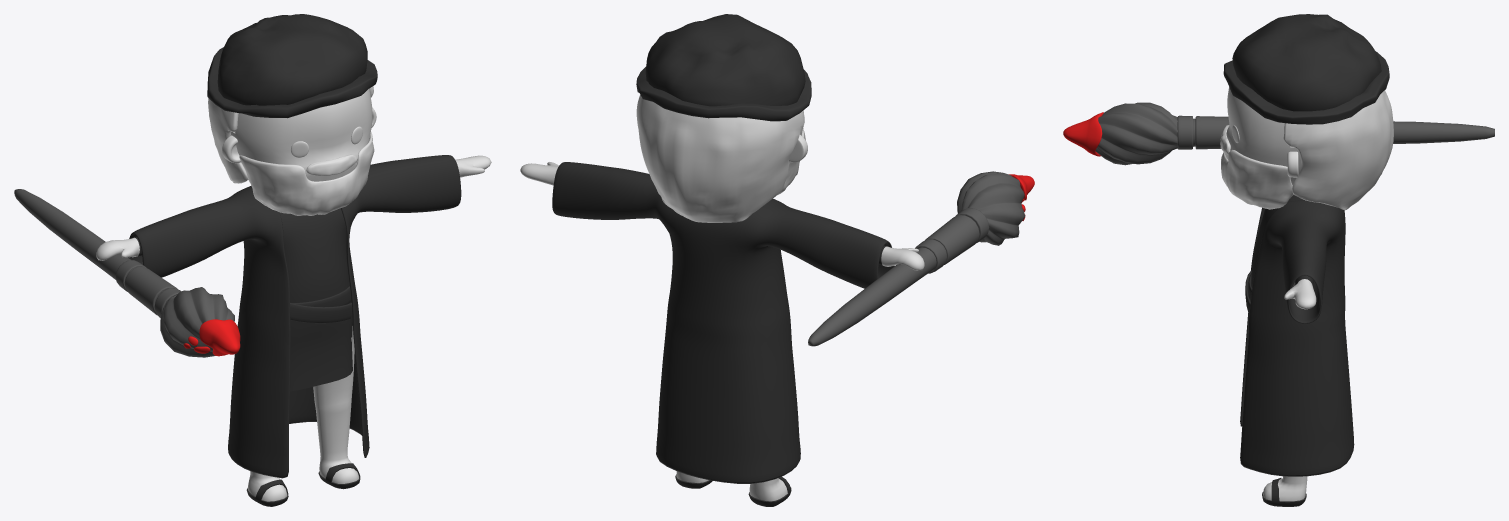
Rendered from DaVinci_SmallB_Test_02.fbx.
3 renders of one model, left to right at view 1: azimuth 30°, elevation 25°; view 2: azimuth 150°, elevation 25°; view 3: azimuth 270°, elevation 25°, orthographic. The views are drawn at different scales.
Visible parts, largest first — view 1: Robe, Top, Shirt, Head, Beard, Legs, Bristles, Rim, Handle, Ferrule, PaintBullet, Hair (+4 smaller); view 2: Robe, Hair, Top, Bristles, Handle, Rim, Ferrule, Legs, Hand_R, Hand_L; view 3: Robe, Top, Hair, Bristles, Rim, Head, Beard, Handle, Ferrule, PaintBullet, Legs, Hand_L (+1 smaller).
Part boxes in pixels (<box>): Robe: <box>128,155,461,478</box>; Top: <box>217,14,367,105</box>; Shirt: <box>135,208,352,391</box>; Head: <box>231,89,372,181</box>; Beard: <box>239,132,374,215</box>; Legs: <box>248,326,358,501</box>; Bristles: <box>160,287,234,357</box>; Rim: <box>207,47,377,118</box>; Handle: <box>14,189,131,279</box>; Ferrule: <box>115,260,180,318</box>; PaintBullet: <box>183,319,240,356</box>; Hair: <box>208,86,373,183</box>; Robe: <box>552,162,894,483</box>; Hair: <box>636,94,804,222</box>; Top: <box>645,14,805,106</box>; Bristles: <box>957,171,1025,245</box>; Handle: <box>808,247,936,346</box>; Rim: <box>636,66,811,121</box>; Ferrule: <box>915,208,989,273</box>; Legs: <box>676,471,787,501</box>; Hand_R: <box>881,246,924,270</box>; Hand_L: <box>520,162,558,185</box>; Robe: <box>1240,200,1354,476</box>; Top: <box>1232,14,1381,111</box>; Hair: <box>1283,90,1393,210</box>; Bristles: <box>1095,102,1177,165</box>; Rim: <box>1223,51,1389,124</box>; Head: <box>1224,87,1301,185</box>; Beard: <box>1221,150,1293,209</box>; Handle: <box>1393,121,1494,143</box>; Ferrule: <box>1177,115,1229,149</box>; PaintBullet: <box>1063,112,1103,156</box>; Legs: <box>1263,476,1307,501</box>; Hand_L: <box>1284,279,1316,309</box>.
Bounding box in the file's own units: 16.26 × 17.53 × 15.06.
